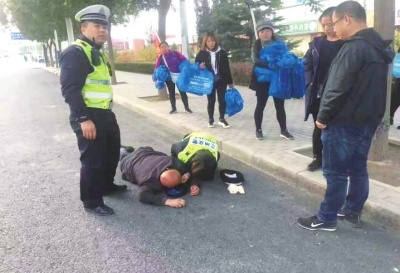falling: (108, 132, 193, 208)
